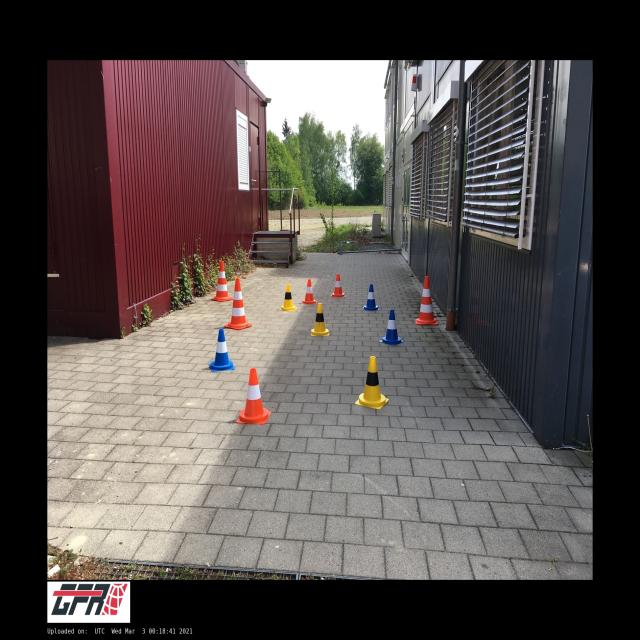blue_cone: (208, 328, 234, 372), (379, 310, 404, 346), (363, 284, 379, 310)
large_orange_cone: (224, 278, 252, 329), (415, 276, 438, 324), (211, 260, 233, 302)
orange_cone: (236, 368, 271, 424), (302, 279, 316, 304), (331, 274, 346, 297)
yellow_cone: (355, 356, 389, 409), (312, 303, 329, 336), (279, 284, 297, 311)
